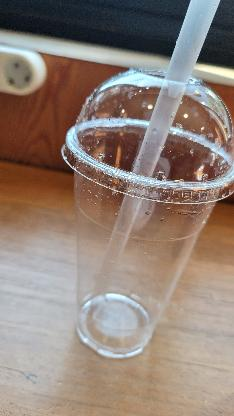Plastic Cup: (63, 65, 234, 359), (63, 66, 234, 205)
